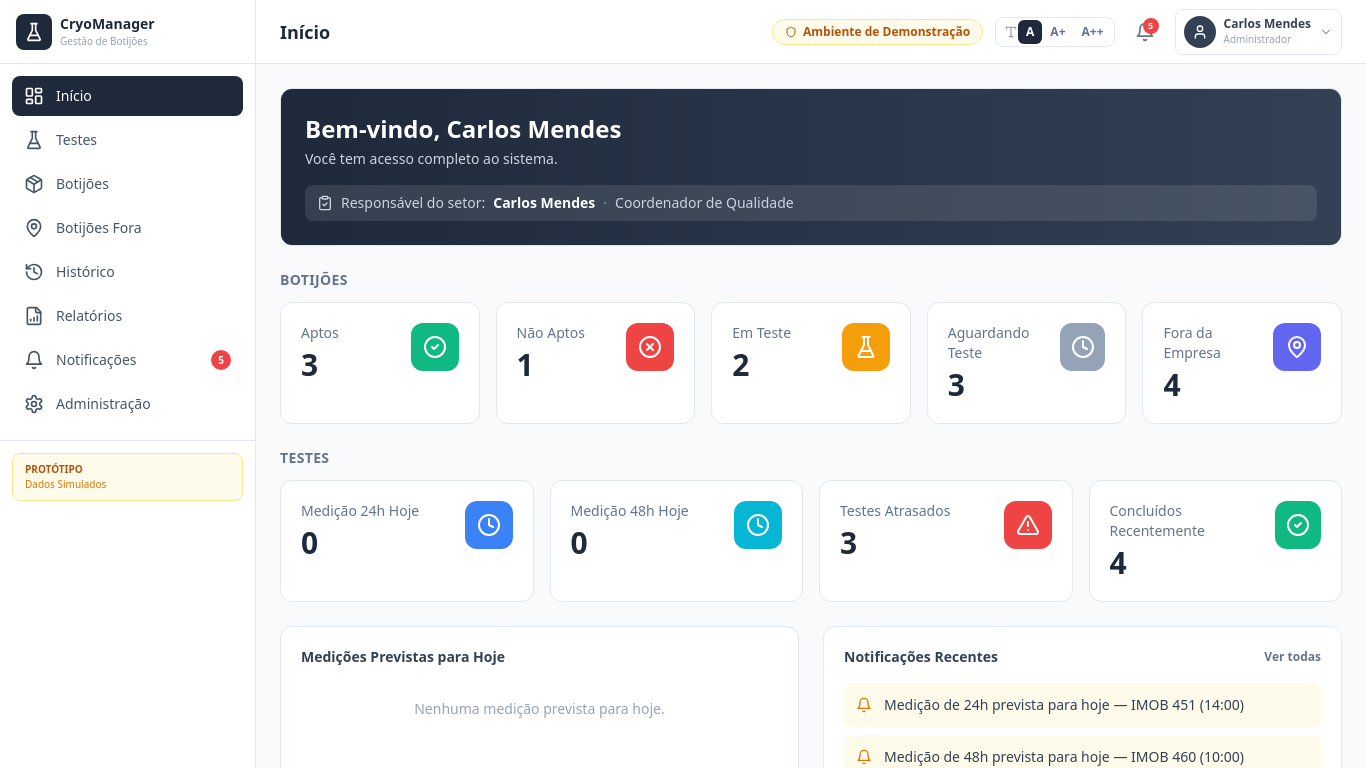
Scenario: Navegação entre telas › navega para a tela de Histórico
Click the button "Histórico" at (128, 272), box [12,252,243,292]
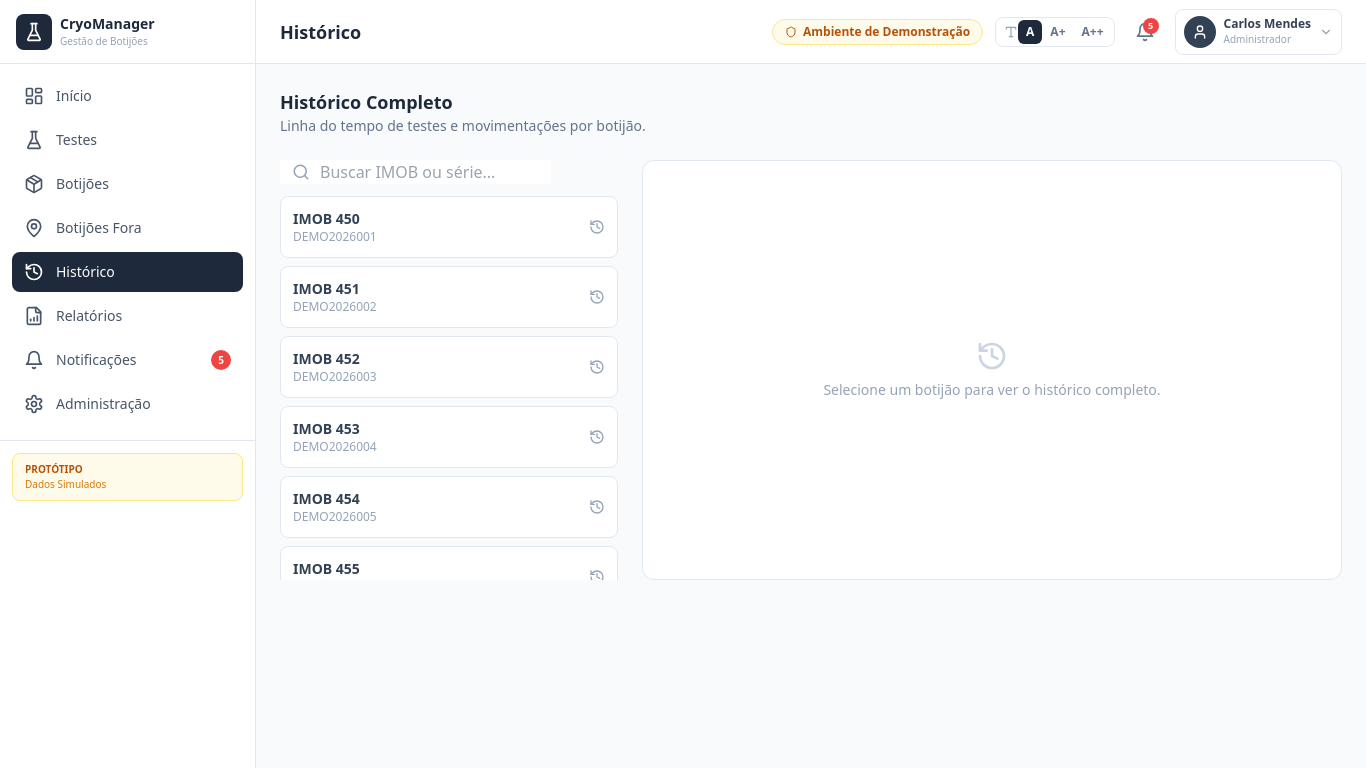
Check: the heading "Histórico Completo" is shown, box [280,90,453,114]
